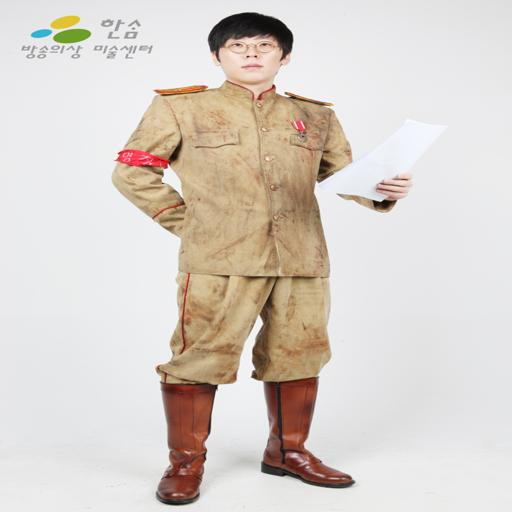north army: (125, 12, 391, 437)
